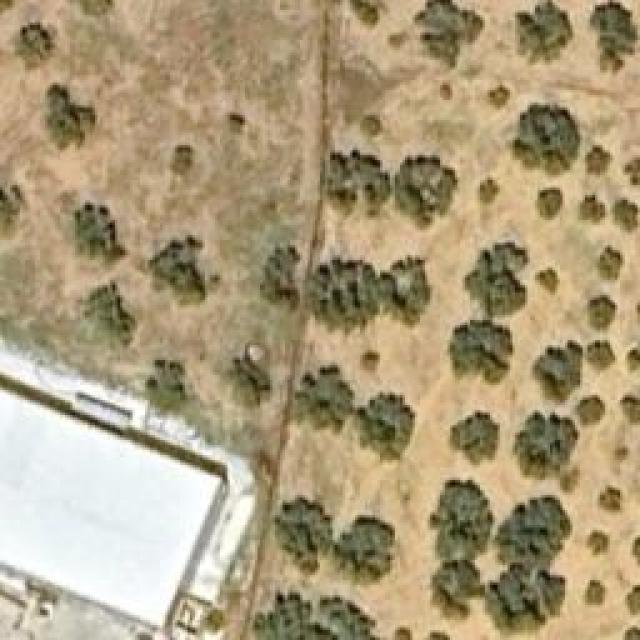Tree: (513, 410, 583, 495), (512, 100, 580, 183), (148, 235, 223, 306), (414, 0, 484, 70), (423, 478, 488, 553), (495, 500, 563, 568), (312, 152, 380, 220), (315, 258, 378, 328), (272, 498, 330, 568), (290, 370, 350, 433), (393, 160, 456, 220), (465, 240, 523, 305), (447, 318, 515, 373), (45, 85, 100, 150), (515, 0, 572, 62), (590, 3, 638, 76), (430, 558, 488, 618), (85, 280, 138, 345), (530, 340, 583, 405), (258, 245, 306, 315), (497, 575, 555, 630), (75, 203, 128, 263), (338, 513, 391, 573), (360, 395, 408, 453), (223, 355, 273, 410), (145, 360, 195, 413), (450, 410, 498, 463), (255, 597, 310, 640), (320, 600, 373, 640), (15, 22, 55, 70), (0, 185, 28, 233), (350, 0, 388, 28), (575, 530, 613, 558), (355, 108, 385, 141), (595, 245, 623, 280), (587, 298, 615, 331), (538, 188, 563, 223), (585, 148, 613, 178), (587, 340, 615, 368), (223, 110, 251, 138), (580, 193, 605, 223), (613, 200, 638, 230), (577, 398, 605, 423), (622, 155, 640, 190), (535, 268, 560, 293), (173, 145, 193, 175), (488, 85, 511, 110), (478, 178, 501, 203), (585, 580, 608, 605), (620, 395, 640, 423), (438, 75, 458, 103), (600, 488, 620, 511), (625, 585, 640, 615), (362, 350, 380, 370)
